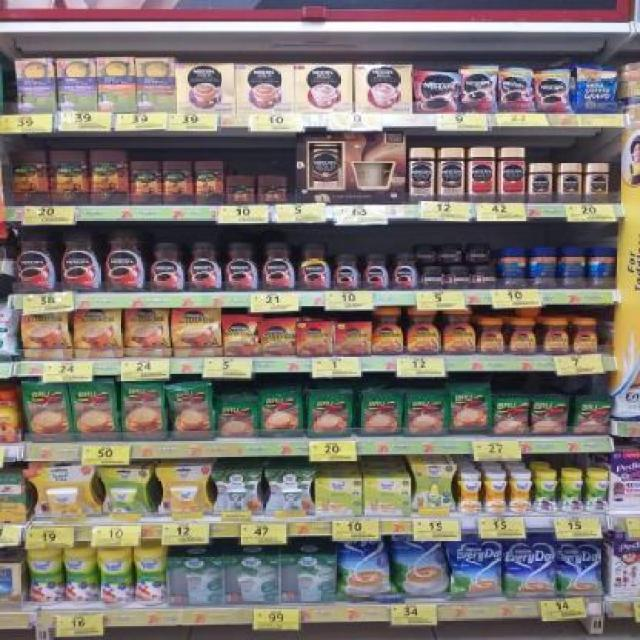Coffee: (105, 229, 147, 293), (16, 229, 58, 293), (60, 229, 102, 292), (73, 309, 124, 357), (173, 308, 222, 355), (23, 313, 71, 359), (127, 309, 171, 357), (414, 72, 457, 113), (224, 243, 258, 292), (150, 243, 184, 292), (188, 243, 222, 291), (261, 243, 294, 292), (297, 243, 331, 290), (500, 68, 534, 112), (462, 66, 494, 112), (406, 309, 438, 355), (443, 310, 476, 354), (372, 310, 403, 356), (534, 73, 568, 113), (224, 317, 258, 357), (411, 149, 435, 203), (439, 148, 463, 201), (260, 319, 294, 356), (331, 255, 361, 291), (362, 255, 390, 292), (391, 254, 419, 290), (479, 318, 506, 354), (543, 318, 569, 355), (573, 318, 599, 354), (510, 319, 536, 355), (530, 163, 553, 203), (558, 164, 580, 204), (590, 163, 609, 203), (446, 266, 472, 289), (419, 266, 445, 288), (472, 266, 496, 288), (466, 244, 492, 264), (440, 244, 462, 263), (416, 246, 438, 264)
